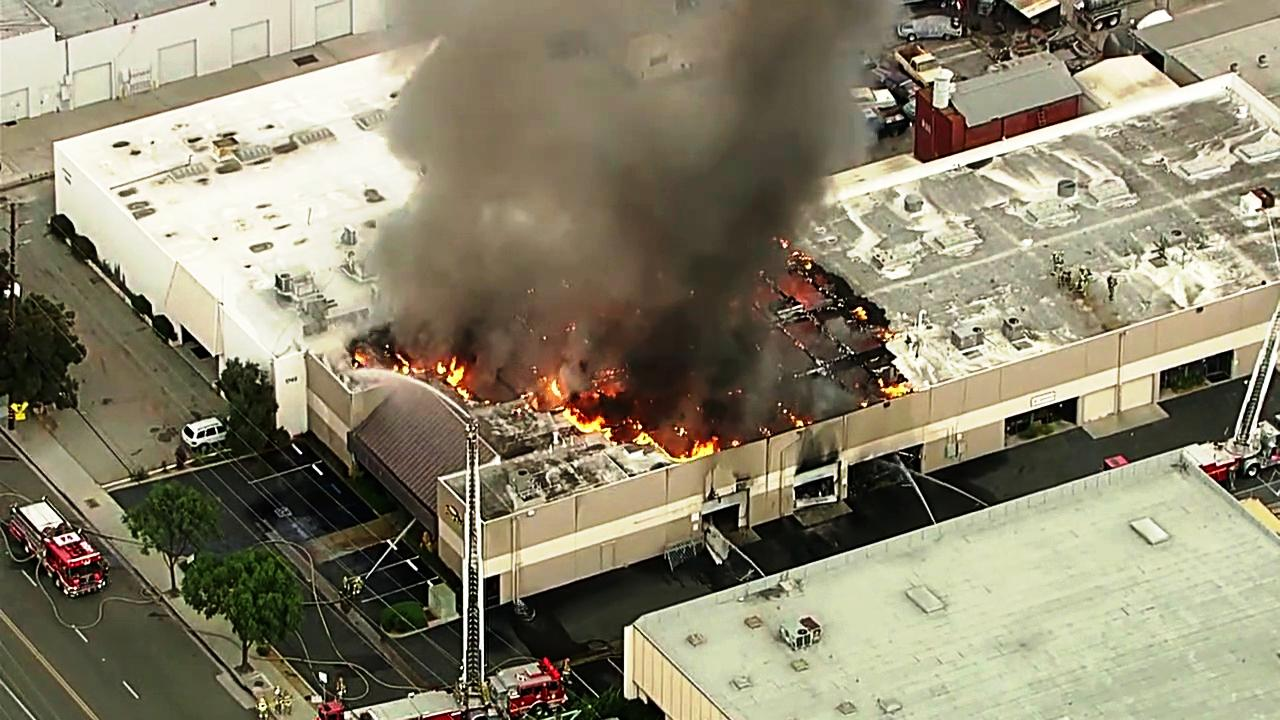smoke: (475, 0, 750, 278)
